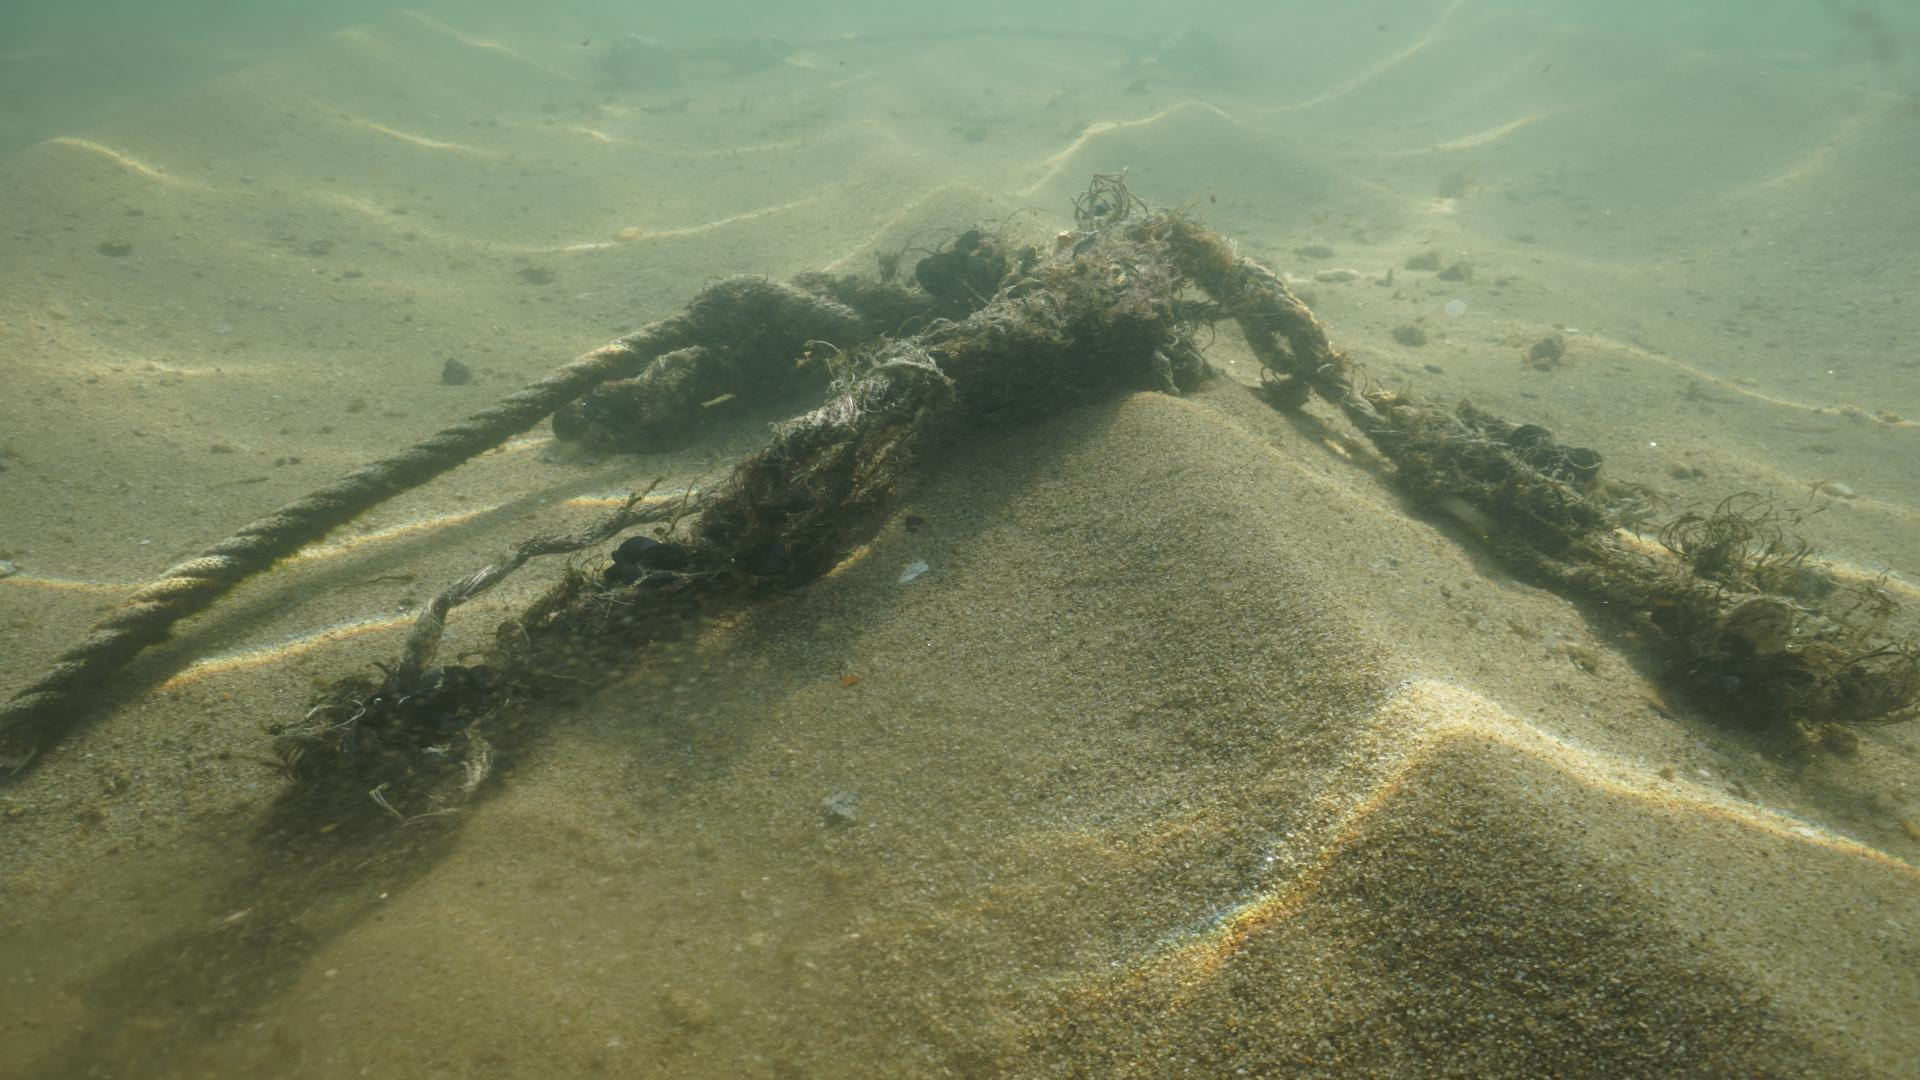rope: (0, 306, 711, 738)
